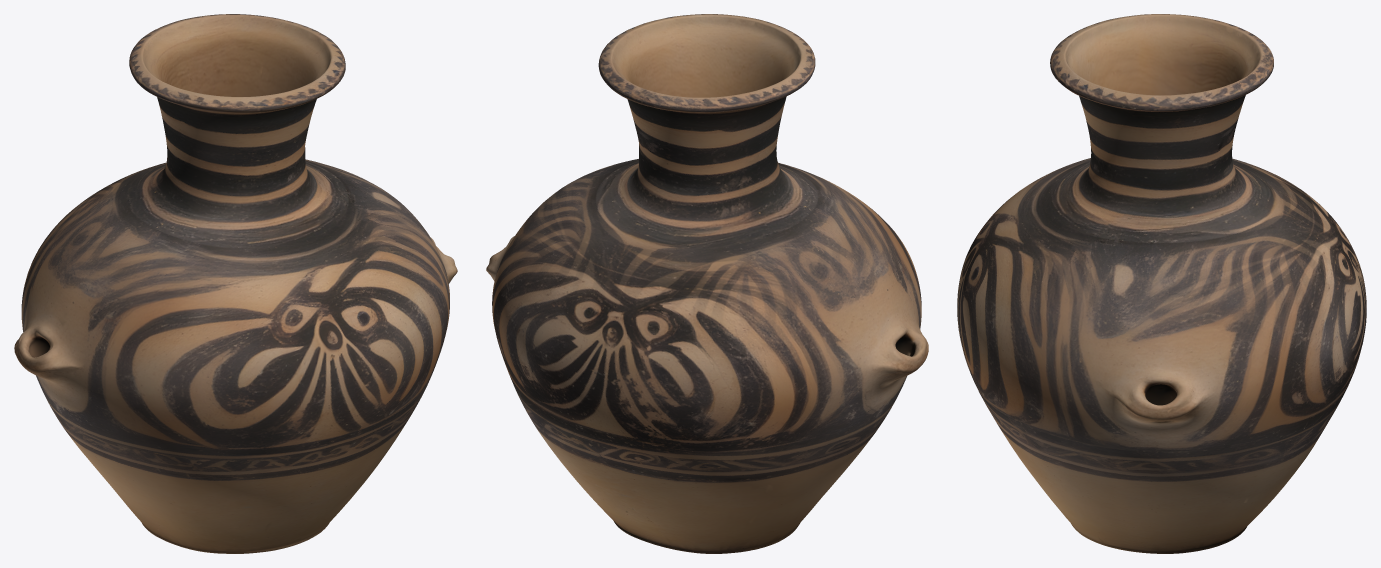
The model's file is biantiniaowencaitaoguanB.glb.
3 renders of one model, left to right at view 1: azimuth 30°, elevation 25°; view 2: azimuth 150°, elevation 25°; view 3: azimuth 270°, elevation 25°, orthographic.
Visible parts, largest first — view 1: node_0; view 2: node_0; view 3: node_0.
Part boxes in pixels (bbox=[...]): node_0: bbox=[14, 14, 457, 553]; node_0: bbox=[486, 14, 928, 553]; node_0: bbox=[957, 14, 1366, 553].
Size of the model in its own units: 1.07 by 1.11 by 0.9004.
Materials: 1 (1 with a texture image).
